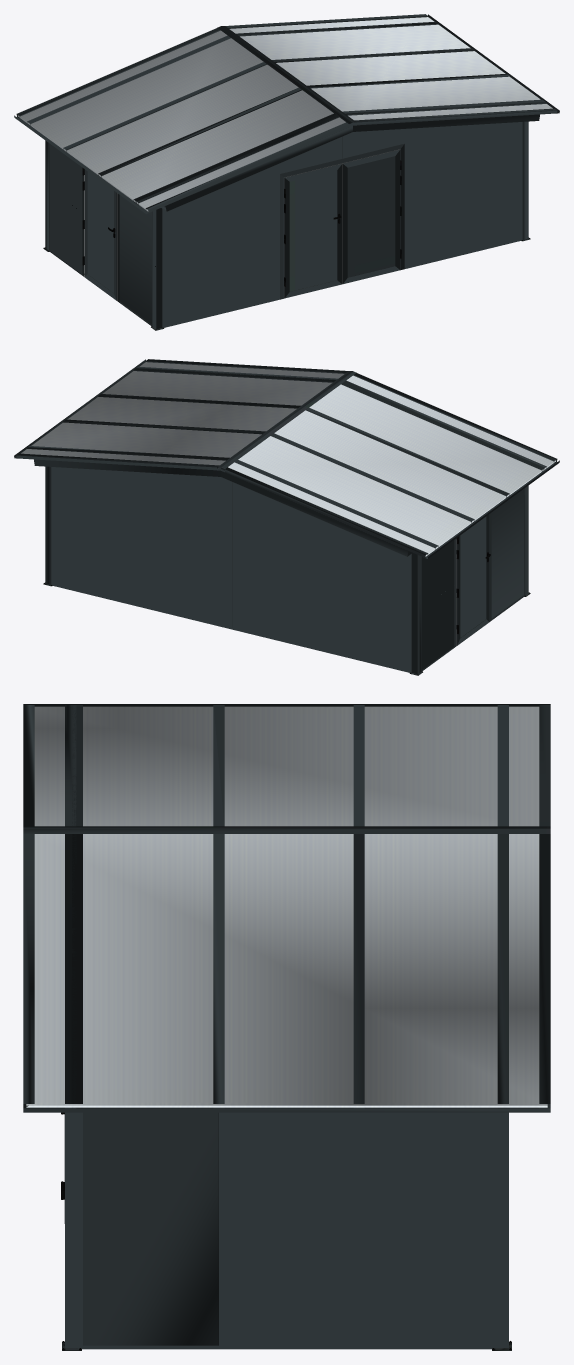
3 views of the same model, one above another, from view 1: azimuth 30°, elevation 25°; view 2: azimuth 150°, elevation 25°; view 3: azimuth 270°, elevation 25° (orthographic). The views are drawn at different scales.
Visible parts, largest first — view 1: priximbattable_net_abris_de_voiture_640014_garage_polycarbon, folha_2, folha_3, folha, porta_dupla, porta; view 2: priximbattable_net_abris_de_voiture_640014_garage_polycarbon, folha, porta; view 3: priximbattable_net_abris_de_voiture_640014_garage_polycarbon.
Boxes of the visible parts, x1,y1,x2,y2 form: priximbattable_net_abris_de_voiture_640014_garage_polycarbon: (14, 14, 559, 330); folha_2: (342, 149, 401, 284); folha_3: (284, 163, 342, 298); folha: (82, 168, 117, 300); porta_dupla: (280, 143, 404, 299); porta: (82, 168, 119, 302); priximbattable_net_abris_de_voiture_640014_garage_polycarbon: (14, 359, 559, 675); folha: (456, 514, 489, 645); porta: (454, 512, 491, 647); priximbattable_net_abris_de_voiture_640014_garage_polycarbon: (23, 704, 550, 1350).
Bounding box in the file's own units: 689 × 270 × 380.
1 material, 1 textured.
